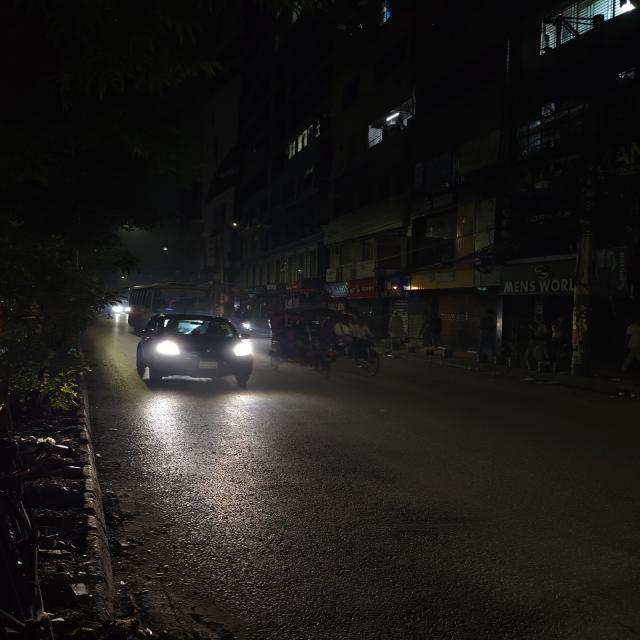bus: (126, 284, 224, 316)
car: (128, 310, 258, 393)
motorcycle: (235, 308, 262, 339)
pedestrian: (468, 306, 505, 353), (520, 313, 555, 362), (415, 308, 449, 349), (385, 308, 407, 346)
rickshaw: (316, 303, 379, 379), (267, 304, 329, 379)
